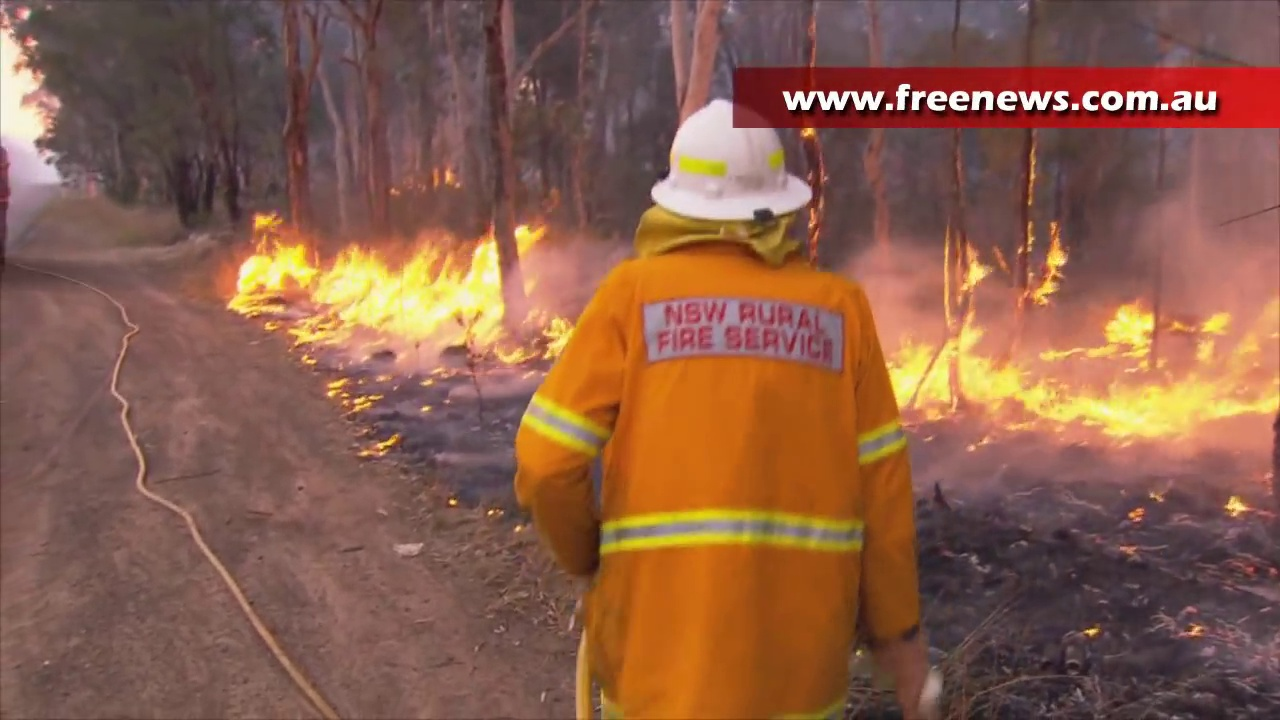fire: (899, 305, 1280, 427), (234, 226, 505, 350), (1033, 226, 1068, 297), (954, 253, 986, 296), (542, 315, 567, 352)
